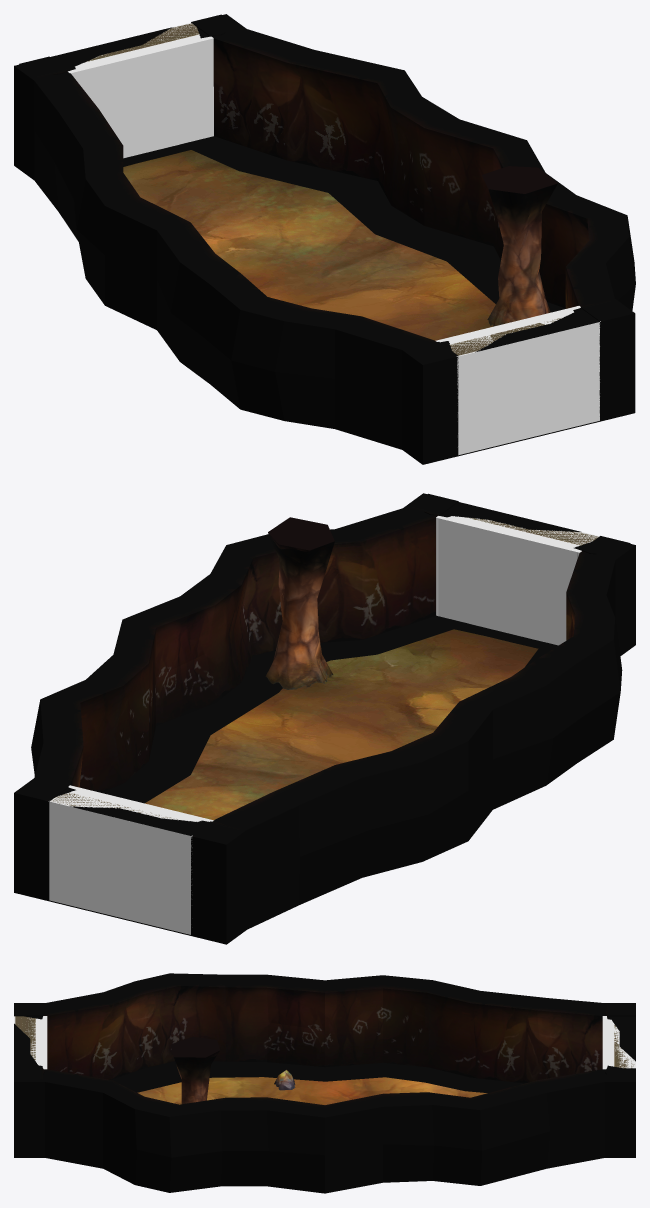
File: Dungeon_011_Road_002.fbx
3 renders of one model, top to bottom at view 1: azimuth 30°, elevation 25°; view 2: azimuth 150°, elevation 25°; view 3: azimuth 270°, elevation 25°, orthographic. The views are drawn at different scales.
Visible parts, largest first — view 1: Dan1, Dan2, DoorWay_NavMask (1) (×2), Dan1_shadow, Dungeon_011_Object_010, Dun_011_Door_002_old (×2), Dun_011_Door_003_WarpRoom (×2); view 2: Dan1, DoorWay_NavMask (1) (×2), Dan2, Dan1_shadow, Dungeon_011_Object_010, Dun_011_Door_002_old (×2), Dun_011_Door_003_WarpRoom, Dun_011_Door_002, Dun_011_Door_002_shadow; view 3: Dan1, Dan1_shadow, Dan2, Dun_011_Door_002_old (×2), Dungeon_011_Object_010, DoorWay_NavMask (1) (×2), Dun_011_Door_003_WarpRoom (×2), Dun_011_Door_002.
Part boxes in pixels (<box>): Dan1: <box>14,14,635,464</box>; Dan2: <box>123,150,500,340</box>; DoorWay_NavMask (1) (×2): <box>68,22,600,455</box>; Dan1_shadow: <box>180,136,565,312</box>; Dungeon_011_Object_010: <box>482,166,557,326</box>; Dun_011_Door_002_old (×2): <box>19,14,630,412</box>; Dun_011_Door_003_WarpRoom (×2): <box>85,23,560,355</box>; Dan1: <box>14,493,635,944</box>; DoorWay_NavMask (1) (×2): <box>48,516,599,934</box>; Dan2: <box>145,629,538,820</box>; Dan1_shadow: <box>101,615,558,803</box>; Dungeon_011_Object_010: <box>265,517,334,689</box>; Dun_011_Door_002_old (×2): <box>19,494,630,934</box>; Dun_011_Door_003_WarpRoom: <box>467,517,598,545</box>; Dun_011_Door_002: <box>39,780,239,935</box>; Dun_011_Door_002_shadow: <box>454,624,543,648</box>; Dan1: <box>14,973,635,1193</box>; Dan1_shadow: <box>110,1061,524,1092</box>; Dan2: <box>137,1077,487,1104</box>; Dun_011_Door_002_old (×2): <box>14,1004,635,1079</box>; Dungeon_011_Object_010: <box>170,1036,219,1104</box>; DoorWay_NavMask (1) (×2): <box>14,1016,635,1069</box>; Dun_011_Door_003_WarpRoom (×2): <box>15,1016,634,1068</box>; Dun_011_Door_002: <box>14,1005,44,1079</box>.
Size of what is drawn, in the model's own units: 8.54 by 2.96 by 15.
